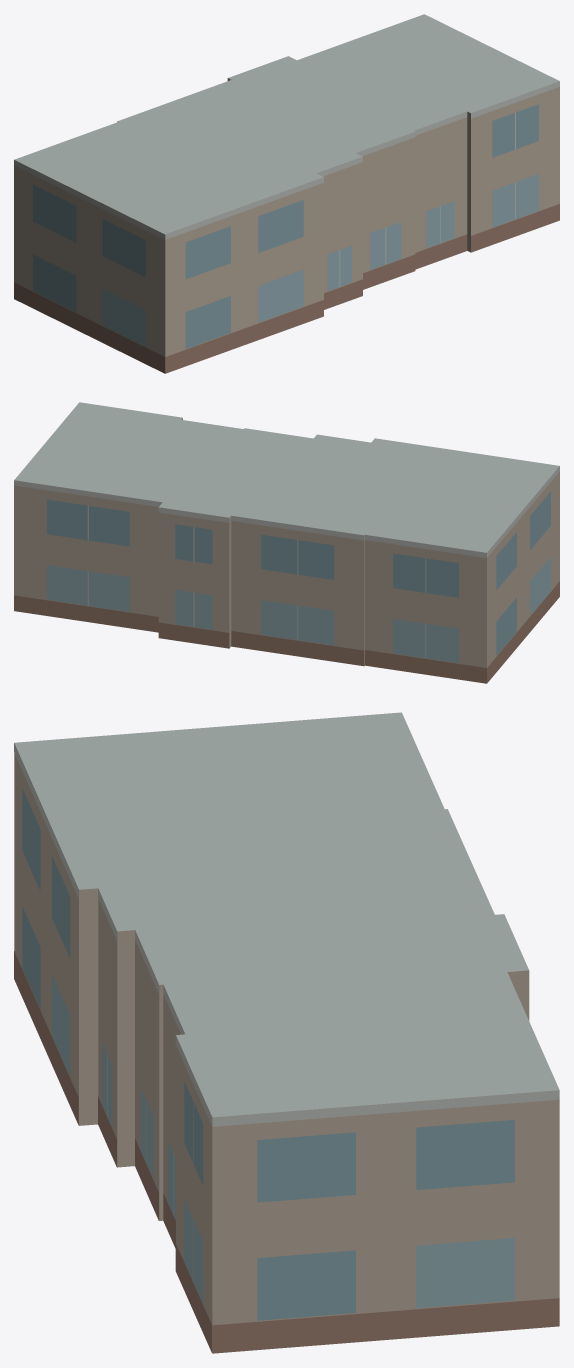
The model's file is survey-upis-33037238.glb.
The picture shows the model from 3 angles, top to bottom: view 1: azimuth 30°, elevation 25°; view 2: azimuth 150°, elevation 25°; view 3: azimuth 270°, elevation 25°; orthographic projection. The views are drawn at different scales.
Parts seen in each view (by area): view 1: survey-upis-33037238.tmp; view 2: survey-upis-33037238.tmp; view 3: survey-upis-33037238.tmp.
Boxes of the visible parts, x1,y1,x2,y2 form: survey-upis-33037238.tmp: [14, 14, 559, 373]; survey-upis-33037238.tmp: [14, 402, 559, 683]; survey-upis-33037238.tmp: [14, 712, 559, 1353].
Size of the model in its own units: 22.45 by 6.1 by 12.79.
